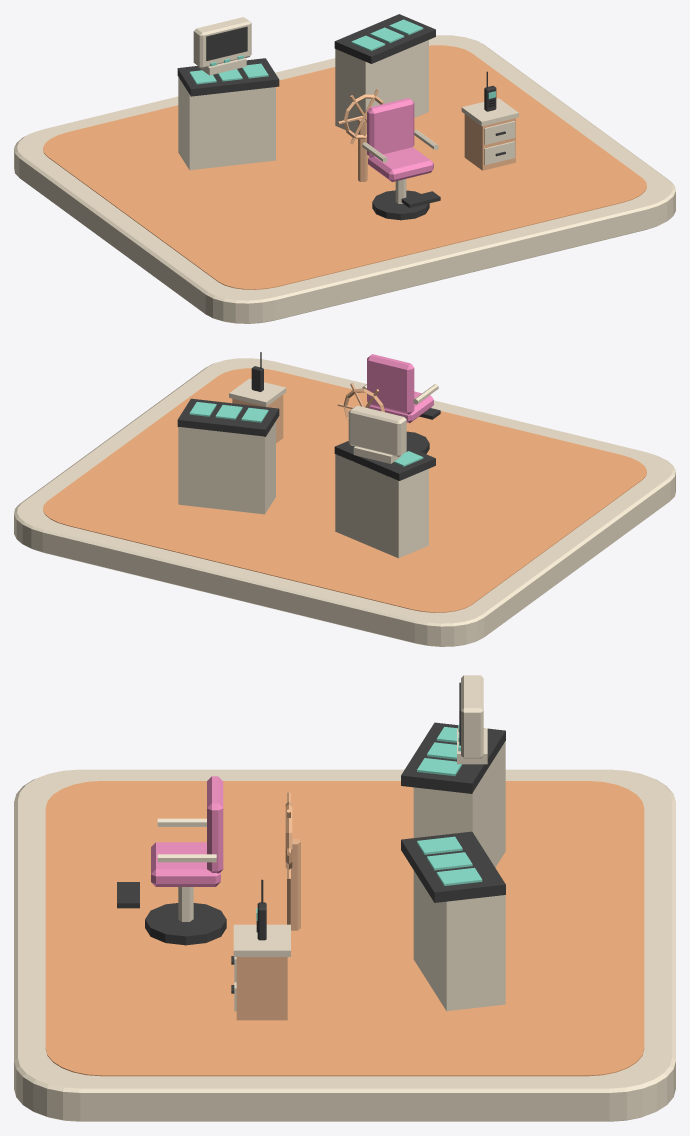
3 views of the same model, one above another, from view 1: azimuth 30°, elevation 25°; view 2: azimuth 150°, elevation 25°; view 3: azimuth 270°, elevation 25° (orthographic). The views are drawn at different scales.
Visible parts, largest first — view 1: COM-02 Floor Surface, COM-01 Rounded Base Direct, Console, Console.001, Back, Panel.001, Panel, Seat, Housing, Body, Base, Readout.006 (+4 smaller); view 2: COM-02 Floor Surface, COM-01 Rounded Base Direct, Console.001, Console, Housing, Back, Panel.001, Panel, Top, Seat, Body; view 3: COM-02 Floor Surface, COM-01 Rounded Base Direct, Console.001, Console, Panel.001, Body, Panel, Base, Seat, Housing, Top, Back (+1 smaller).
Boxes of the visible parts, <box> form: COM-02 Floor Surface: <box>43,45,646,289</box>; COM-01 Rounded Base Direct: <box>14,35,675,323</box>; Console: <box>178,77,275,170</box>; Console.001: <box>335,40,428,133</box>; Back: <box>367,98,414,157</box>; Panel.001: <box>334,14,435,63</box>; Panel: <box>177,58,279,96</box>; Seat: <box>368,147,433,181</box>; Housing: <box>193,17,251,68</box>; Body: <box>464,114,515,170</box>; Base: <box>372,190,429,220</box>; Readout.006: <box>206,26,247,60</box>; COM-02 Floor Surface: <box>43,368,646,612</box>; COM-01 Rounded Base Direct: <box>14,358,675,646</box>; Console.001: <box>178,421,275,514</box>; Console: <box>335,454,428,558</box>; Housing: <box>348,405,406,456</box>; Back: <box>367,354,414,414</box>; Panel.001: <box>177,398,279,436</box>; Panel: <box>334,441,435,480</box>; Top: <box>229,378,286,406</box>; Seat: <box>368,391,433,423</box>; Body: <box>232,395,283,442</box>; COM-02 Floor Surface: <box>45,781,644,1076</box>; COM-01 Rounded Base Direct: <box>14,769,675,1121</box>; Console.001: <box>413,870,505,1011</box>; Console: <box>413,741,505,867</box>; Panel.001: <box>401,831,505,902</box>; Body: <box>236,957,287,1020</box>; Panel: <box>401,722,505,793</box>; Base: <box>145,903,226,945</box>; Seat: <box>151,842,220,886</box>; Housing: <box>461,675,483,758</box>; Top: <box>233,924,290,956</box>; Back: <box>207,776,223,873</box>.
Size of the model in its own units: 6 by 1.88 by 5.2.
1 material, 1 textured.
